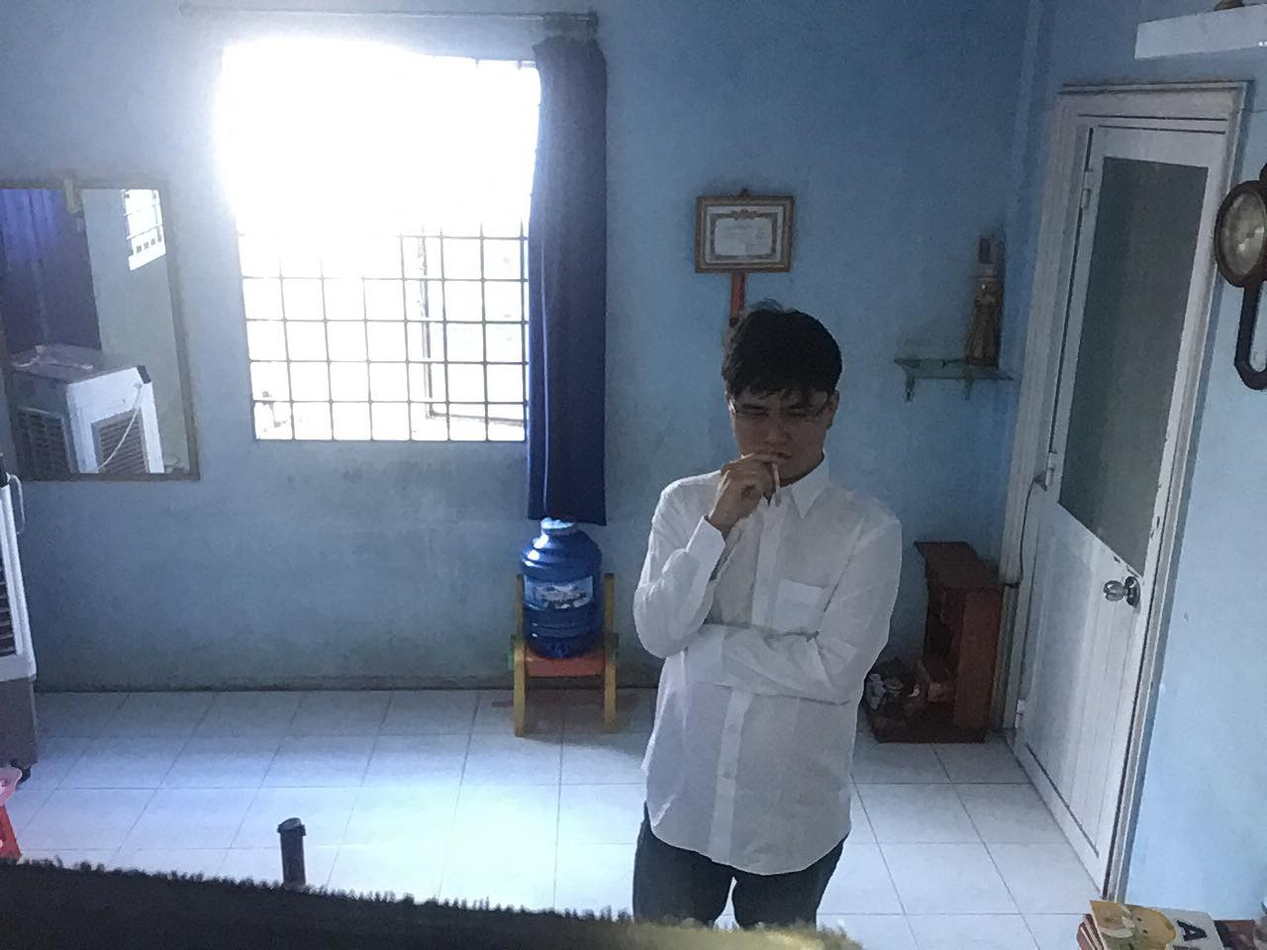cigarette: (763, 447, 795, 498)
person: (622, 294, 922, 950)
